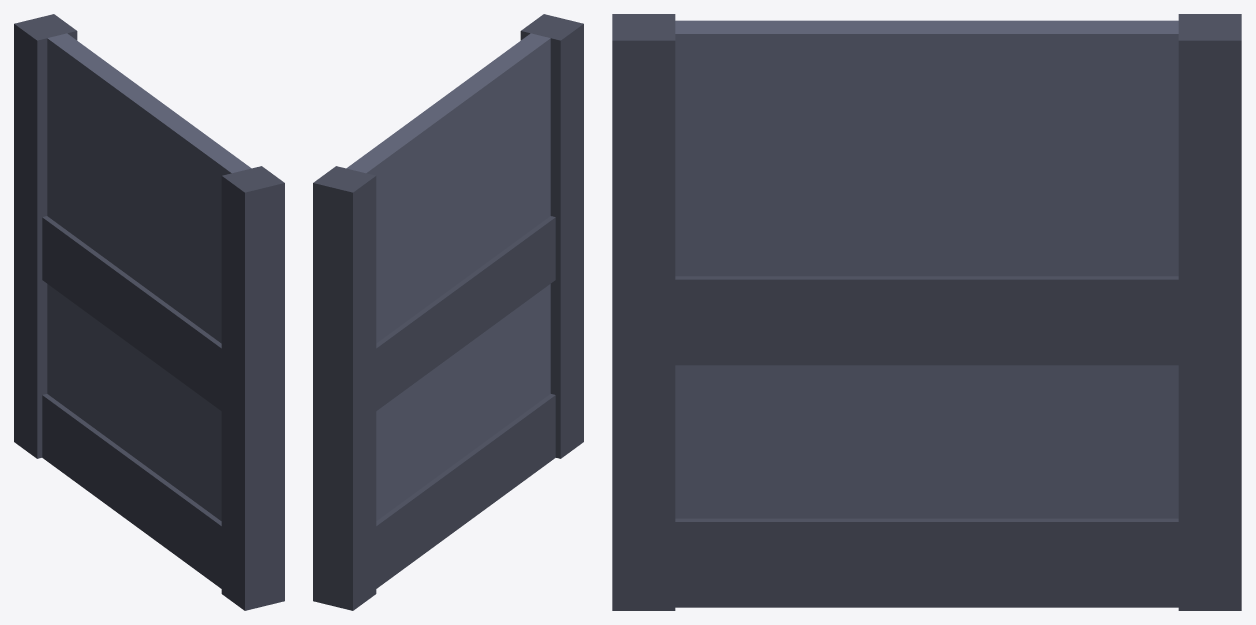
The model's file is wall-wood-detail-horizontal.glb.
3 views of the same model, side by side, from view 1: azimuth 30°, elevation 25°; view 2: azimuth 150°, elevation 25°; view 3: azimuth 270°, elevation 25° (orthographic). The views are drawn at different scales.
Parts seen in each view (by area): view 1: wall-wood-detail-horizontal; view 2: wall-wood-detail-horizontal; view 3: wall-wood-detail-horizontal.
Part boxes in pixels (x1,y1,x2,y2): wall-wood-detail-horizontal: (14,14,284,610); wall-wood-detail-horizontal: (313,14,583,610); wall-wood-detail-horizontal: (612,14,1241,610).
Bounding box in the file's own units: 0.1 × 1 × 1.
Materials: 1 (1 with a texture image).
